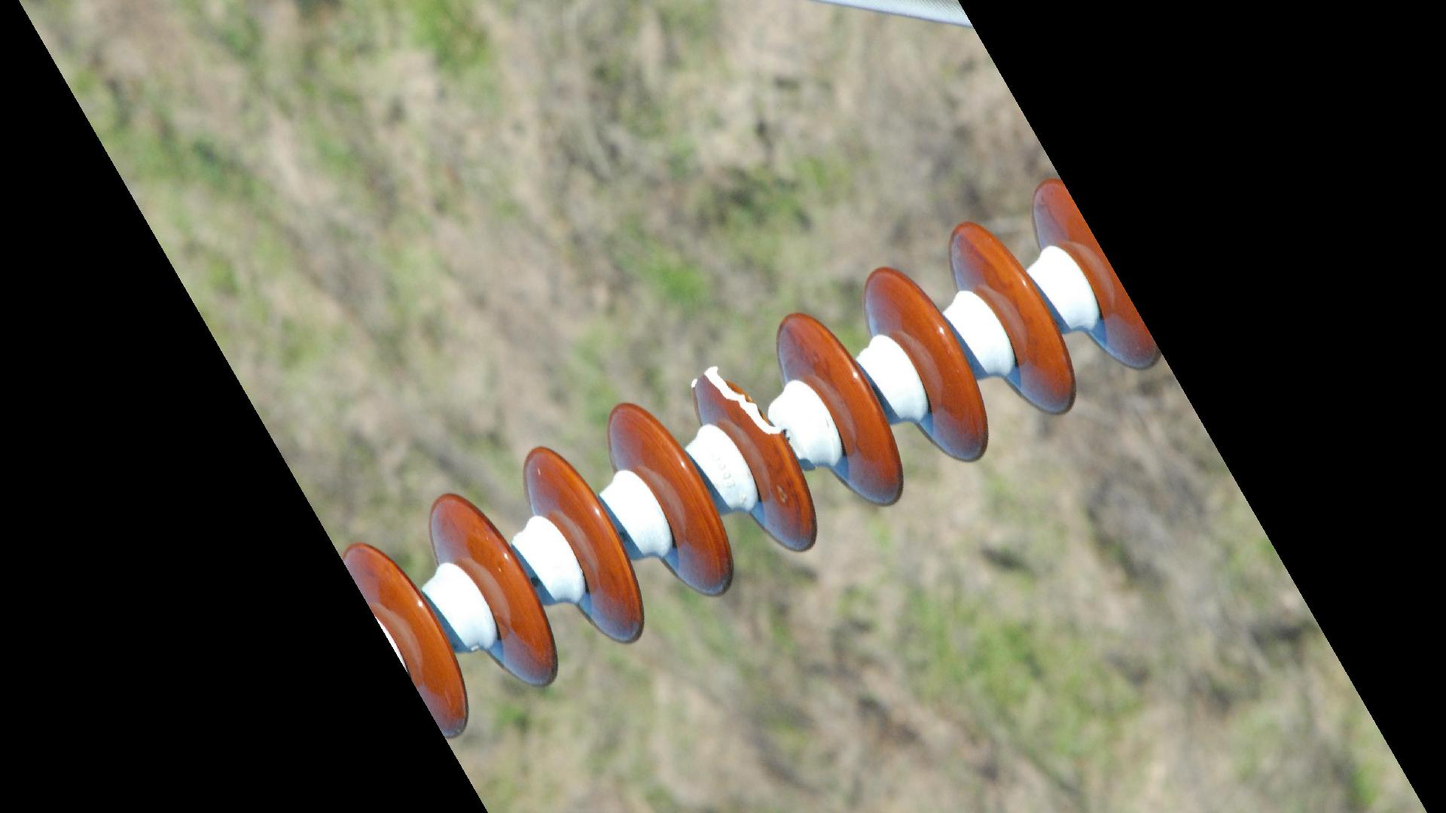insulator: (336, 173, 1164, 749)
insulator_breakage: (682, 357, 801, 453)
